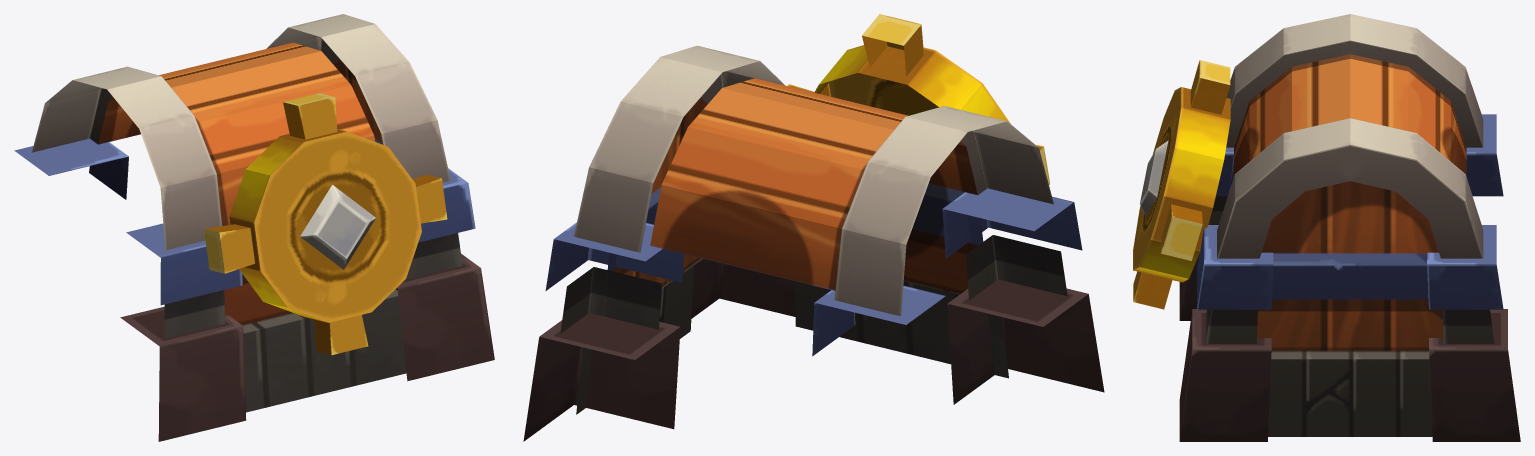
Rendered from B_Warehouse01.fbx.
3 renders of one model, left to right at view 1: azimuth 30°, elevation 25°; view 2: azimuth 150°, elevation 25°; view 3: azimuth 270°, elevation 25°, orthographic. The views are drawn at different scales.
Parts seen in each view (by area): view 1: B_Warehouse01_01, B_Warehouse01_02; view 2: B_Warehouse01_01, B_Warehouse01_02; view 3: B_Warehouse01_01, B_Warehouse01_02.
Boxes of the visible parts, left/top/right/bottom form: B_Warehouse01_01: left=14, top=14, right=494, bottom=441; B_Warehouse01_02: left=204, top=93, right=447, bottom=355; B_Warehouse01_01: left=523, top=45, right=1104, bottom=441; B_Warehouse01_02: left=787, top=14, right=1049, bottom=184; B_Warehouse01_01: left=1179, top=14, right=1520, bottom=441; B_Warehouse01_02: left=1133, top=60, right=1230, bottom=309.
Bounding box in the file's own units: 4.37 × 3.63 × 4.38.
1 material, 1 textured.
